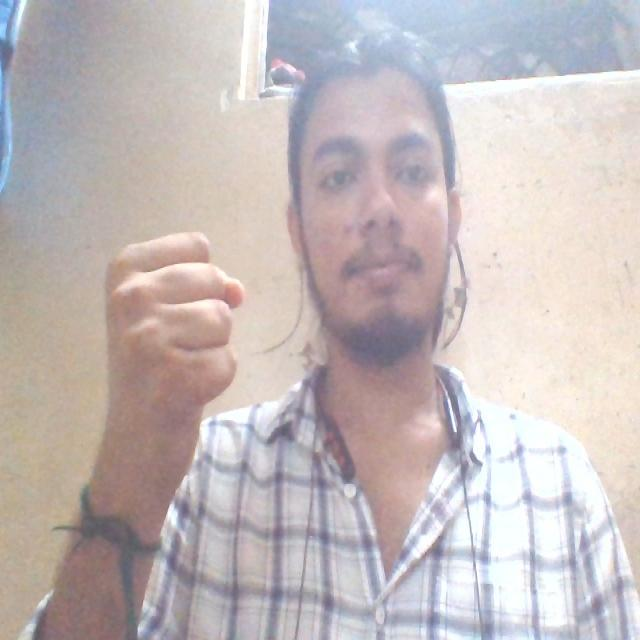No: (95, 222, 250, 478)
